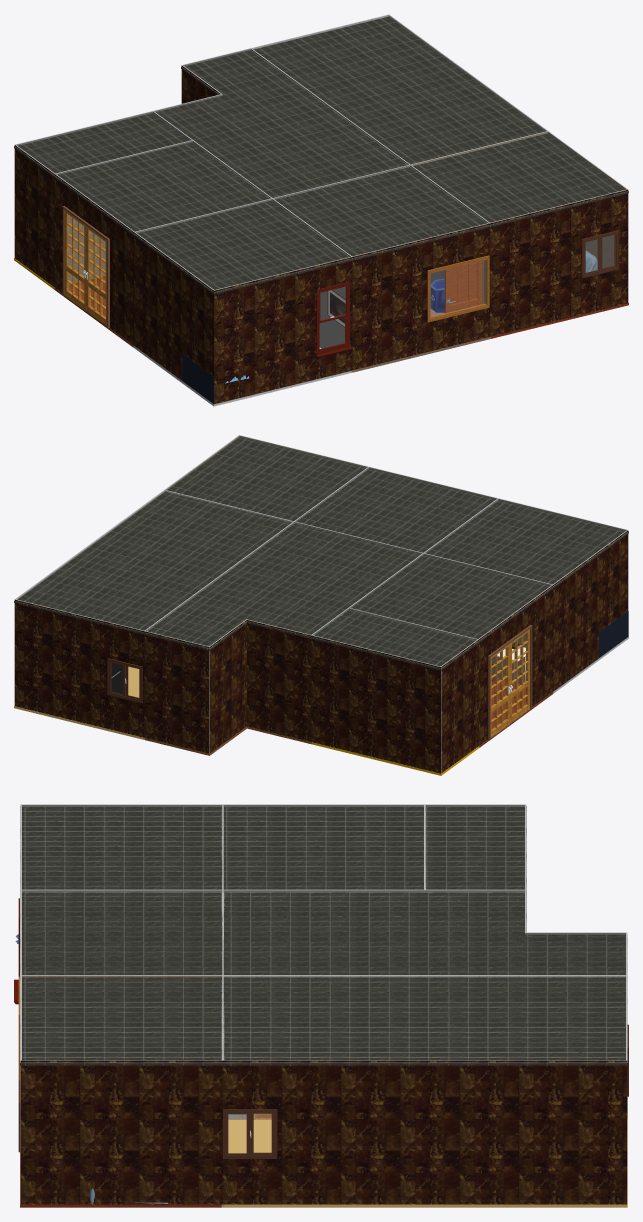
The model's file is ProcTHOR-Train-118.glb.
The picture shows the model from 3 angles, top to bottom: view 1: azimuth 30°, elevation 25°; view 2: azimuth 150°, elevation 25°; view 3: azimuth 270°, elevation 25°; orthographic projection. The views are drawn at different scales.
Visible parts, largest first — view 1: Ceiling#room|2|c, Ceiling#room|3|c, WallInside#wall|exterior|0.00|10.20|3.40|10.20, WallInside#wall|exterior|6.80|10.20|10.20|10.20, WallInside#wall|exterior|3.40|10.20|6.80|10.20, Ceiling#room|8|c, Ceiling#room|6|c, Ceiling#room|7|c, Ceiling#room|4|c, WallInside#wall|exterior|10.20|6.80|10.20|10.20, Ceiling#room|5|c, WallInside#wall|exterior|10.20|3.40|10.20|6.80 (+15 smaller); view 2: Ceiling#room|2|c, Ceiling#room|3|c, WallInside#wall|exterior|6.80|1.70|10.20|1.70, WallInside#wall|exterior|0.00|0.00|3.40|0.00, Ceiling#room|4|c, Ceiling#room|8|c, Ceiling#room|6|c, Ceiling#room|7|c, WallInside#wall|exterior|10.20|6.80|10.20|10.20, WallInside#wall|exterior|3.40|0.00|5.10|0.00, WallInside#wall|exterior|5.10|1.70|6.80|1.70, Ceiling#room|5|c (+13 smaller); view 3: WallInside#wall|exterior|0.00|0.00|0.00|6.80, Ceiling#room|2|c, Ceiling#room|3|c, WallInside#wall|exterior|0.00|6.80|0.00|10.20, Ceiling#room|6|c, Ceiling#room|4|c, Ceiling#room|8|c, Ceiling#room|7|c, Ceiling#room|5|c, Floor#room|2|f, Window_Slider_36x36, WallInside#wall|2|3.40|0.00|3.40|6.80 (+4 smaller).
Part boxes in pixels (bbox=[...]): Ceiling#room|2|c: bbox=[252, 16, 547, 165]; Ceiling#room|3|c: bbox=[156, 50, 409, 198]; WallInside#wall|exterior|0.00|10.20|3.40|10.20: bbox=[489, 189, 628, 336]; WallInside#wall|exterior|6.80|10.20|10.20|10.20: bbox=[214, 257, 352, 403]; WallInside#wall|exterior|3.40|10.20|6.80|10.20: bbox=[352, 223, 489, 370]; Ceiling#room|8|c: bbox=[133, 200, 353, 294]; Ceiling#room|6|c: bbox=[410, 133, 628, 226]; Ceiling#room|7|c: bbox=[275, 167, 490, 260]; Ceiling#room|4|c: bbox=[53, 142, 269, 235]; WallInside#wall|exterior|10.20|6.80|10.20|10.20: bbox=[134, 232, 213, 380]; Ceiling#room|5|c: bbox=[14, 113, 190, 177]; WallInside#wall|exterior|10.20|3.40|10.20|6.80: bbox=[54, 174, 133, 345]; Ceiling#room|2|c: bbox=[14, 492, 291, 634]; Ceiling#room|3|c: bbox=[145, 523, 420, 650]; WallInside#wall|exterior|6.80|1.70|10.20|1.70: bbox=[310, 635, 440, 773]; WallInside#wall|exterior|0.00|0.00|3.40|0.00: bbox=[14, 599, 144, 737]; Ceiling#room|4|c: bbox=[351, 555, 554, 642]; Ceiling#room|8|c: bbox=[426, 500, 628, 587]; Ceiling#room|6|c: bbox=[167, 437, 368, 521]; Ceiling#room|7|c: bbox=[294, 468, 496, 552]; WallInside#wall|exterior|10.20|6.80|10.20|10.20: bbox=[553, 530, 628, 691]; WallInside#wall|exterior|3.40|0.00|5.10|0.00: bbox=[144, 631, 209, 753]; WallInside#wall|exterior|5.10|1.70|6.80|1.70: bbox=[247, 619, 311, 741]; Ceiling#room|5|c: bbox=[310, 609, 479, 670]; WallInside#wall|exterior|0.00|0.00|0.00|6.80: bbox=[222, 1060, 627, 1204]; Ceiling#room|2|c: bbox=[221, 977, 627, 1065]; Ceiling#room|3|c: bbox=[221, 891, 627, 976]; WallInside#wall|exterior|0.00|6.80|0.00|10.20: bbox=[20, 1060, 223, 1204]; Ceiling#room|6|c: bbox=[20, 977, 224, 1065]; Ceiling#room|4|c: bbox=[221, 807, 425, 892]; Ceiling#room|8|c: bbox=[20, 806, 223, 892]; Ceiling#room|7|c: bbox=[20, 891, 224, 976]; Ceiling#room|5|c: bbox=[423, 806, 526, 892]; Floor#room|2|f: bbox=[221, 1118, 627, 1207]; Window_Slider_36x36: bbox=[223, 1109, 277, 1158]; WallInside#wall|2|3.40|0.00|3.40|6.80: bbox=[223, 975, 625, 1119].
Size of what is drawn, in the model's own units: 10.37 by 2.73 by 10.36.
269 materials, 116 textured.
